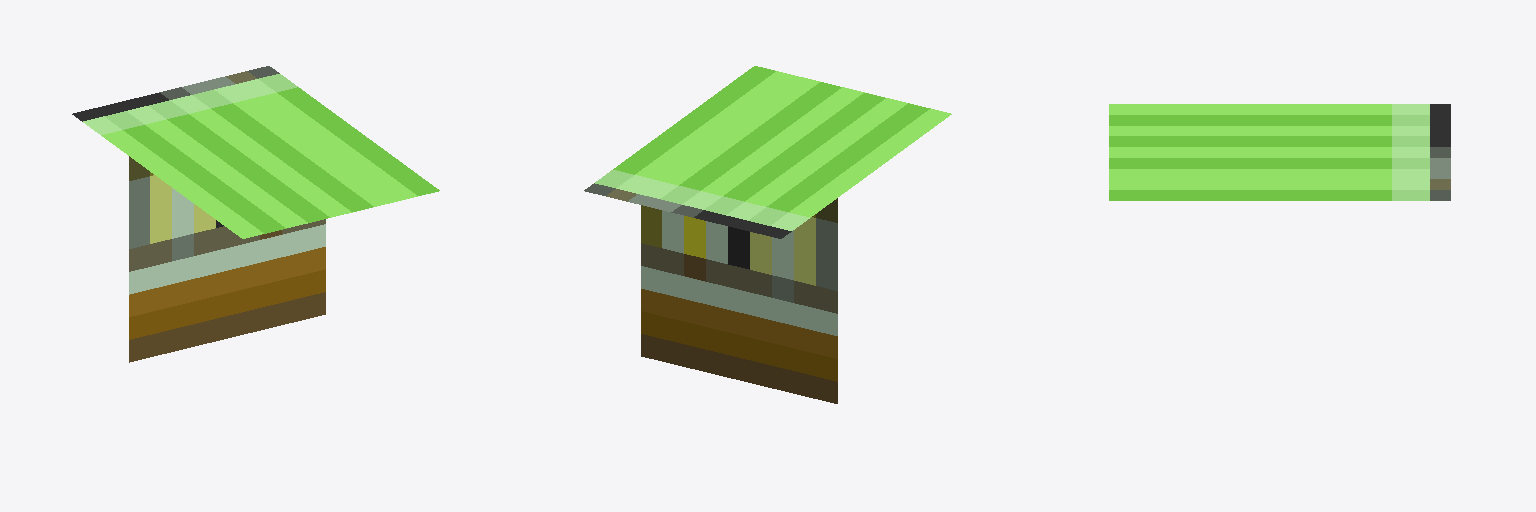
The picture shows the model from 3 angles: view 1: azimuth 30°, elevation 25°; view 2: azimuth 150°, elevation 25°; view 3: azimuth 270°, elevation 25°; orthographic projection.
Visible parts, largest first — view 1: Default; view 2: Default; view 3: Default.
Boxes of the visible parts, x1,y1,x2,y2 form: Default: [72, 66, 439, 362]; Default: [584, 66, 951, 403]; Default: [1109, 104, 1450, 200].
Bounding box in the file's own units: 1 × 1 × 1.5.
Materials: 1 (1 with a texture image).